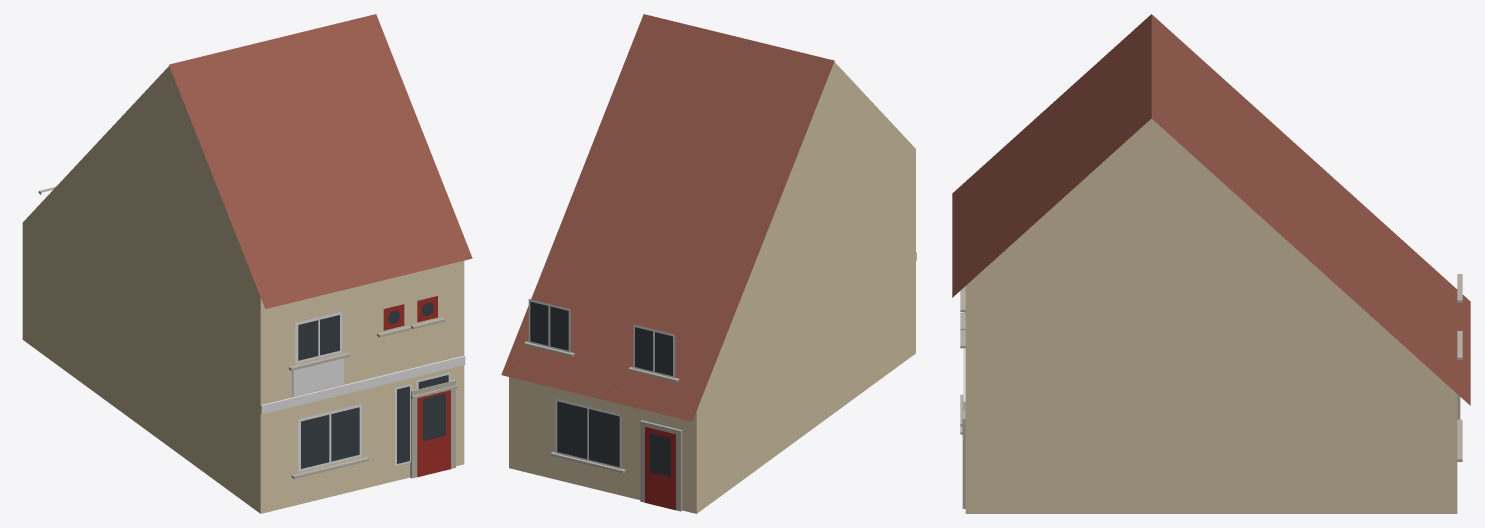
Rendered from nw-ma-porthole__cream__2__gable__long__solid__mirror.glb.
3 renders of one model, left to right at view 1: azimuth 30°, elevation 25°; view 2: azimuth 150°, elevation 25°; view 3: azimuth 270°, elevation 25°, orthographic. The views are drawn at different scales.
Visible parts, largest first — view 1: nw-ma-porthole__cream__2__gable__long__solid__mirror; view 2: nw-ma-porthole__cream__2__gable__long__solid__mirror; view 3: nw-ma-porthole__cream__2__gable__long__solid__mirror.
Boxes of the visible parts, x1,y1,x2,y2 form: nw-ma-porthole__cream__2__gable__long__solid__mirror: (22,14,472,513); nw-ma-porthole__cream__2__gable__long__solid__mirror: (501,14,916,513); nw-ma-porthole__cream__2__gable__long__solid__mirror: (952,14,1470,513).
Bounding box in the file's own units: 5.52 × 9.77 × 11.58.
